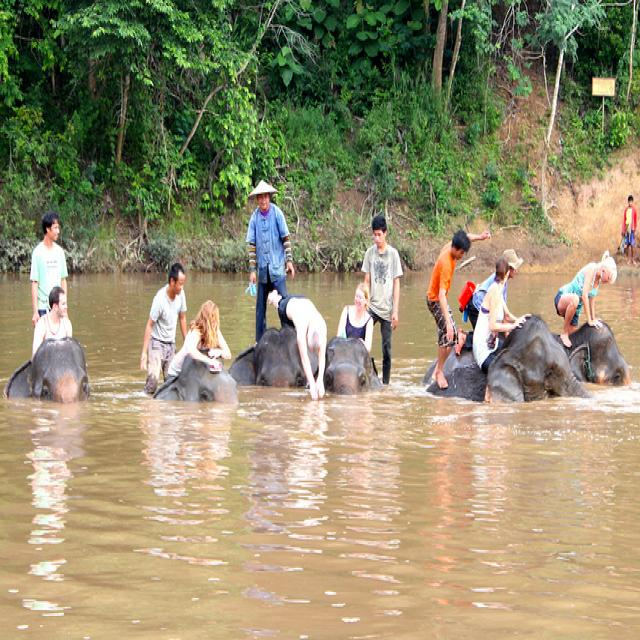Elephant: (422, 312, 593, 402), (2, 335, 90, 403), (553, 317, 630, 386), (152, 352, 238, 404)
person: (245, 178, 294, 342), (361, 213, 403, 383), (266, 289, 327, 401), (472, 257, 530, 372), (140, 262, 188, 394), (554, 252, 617, 348), (167, 299, 231, 379), (29, 210, 68, 324), (31, 286, 72, 362), (336, 282, 373, 353), (621, 194, 637, 264)
